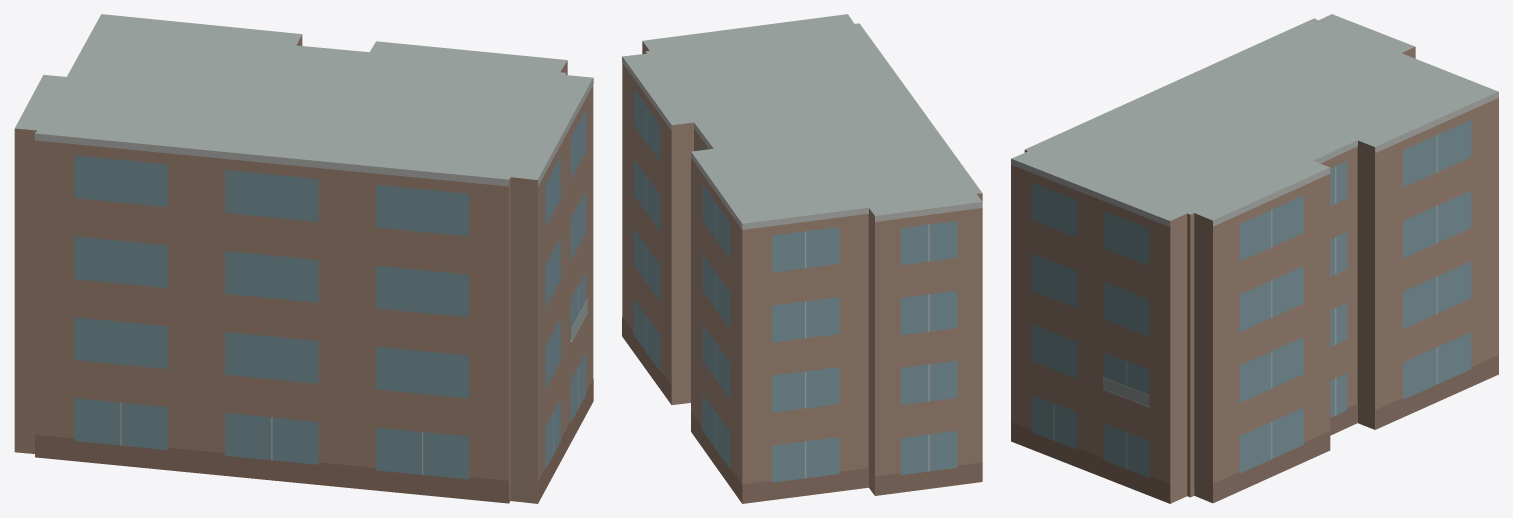
The model's file is survey-upis-32835947.glb.
3 renders of one model, left to right at view 1: azimuth 30°, elevation 25°; view 2: azimuth 150°, elevation 25°; view 3: azimuth 270°, elevation 25°, orthographic. The views are drawn at different scales.
Visible parts, largest first — view 1: survey-upis-32835947.tmp; view 2: survey-upis-32835947.tmp; view 3: survey-upis-32835947.tmp.
Part boxes in pixels (left/top/right/bottom): survey-upis-32835947.tmp: left=14, top=14, right=593, bottom=503; survey-upis-32835947.tmp: left=622, top=14, right=982, bottom=503; survey-upis-32835947.tmp: left=1011, top=14, right=1498, bottom=503.
Bounding box in the file's own units: 17.86 × 11.36 × 17.77.
